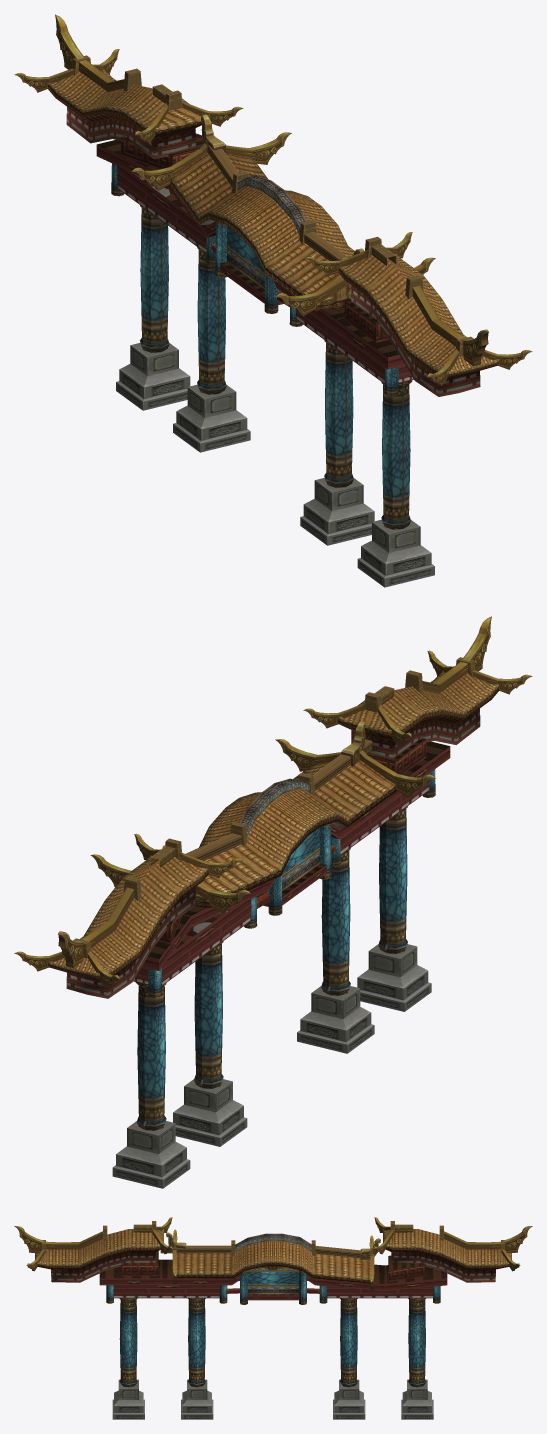
Rendered from Yland1_fz_03 Yland1_01.FBX.
3 renders of one model, top to bottom at view 1: azimuth 30°, elevation 25°; view 2: azimuth 150°, elevation 25°; view 3: azimuth 270°, elevation 25°, orthographic. The views are drawn at different scales.
Visible parts, largest first — view 1: Yland1_fz_03 Yland1; view 2: Yland1_fz_03 Yland1; view 3: Yland1_fz_03 Yland1.
Part boxes in pixels (left/top/right/bottom): Yland1_fz_03 Yland1: left=14, top=14, right=532, bottom=587; Yland1_fz_03 Yland1: left=14, top=616, right=532, bottom=1188; Yland1_fz_03 Yland1: left=14, top=1217, right=532, bottom=1419.
Bounding box in the file's own units: 8.91 × 14.87 × 36.95.
